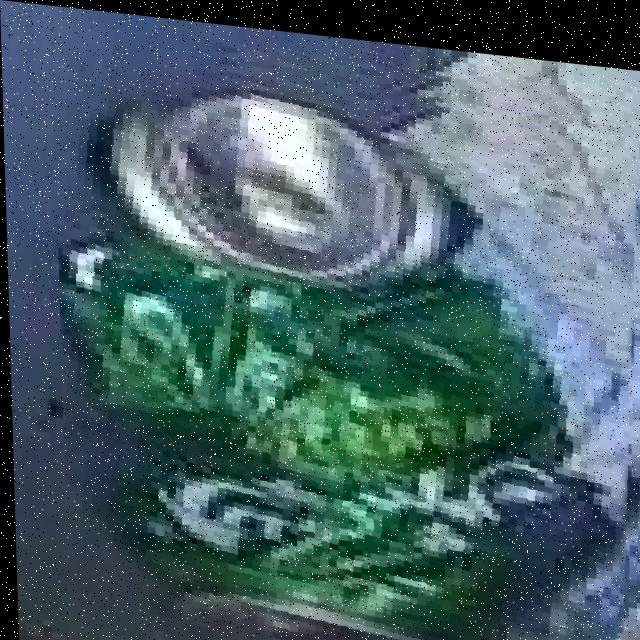can: (53, 56, 629, 640)
